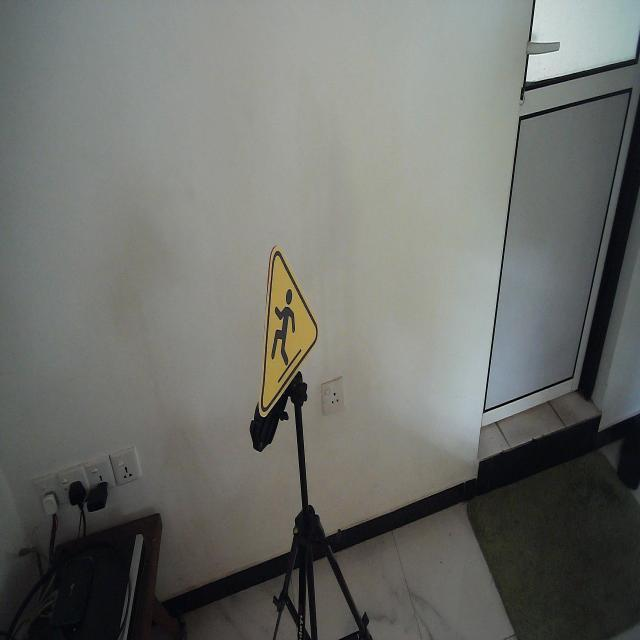slippery_sign: (258, 244, 320, 421)
